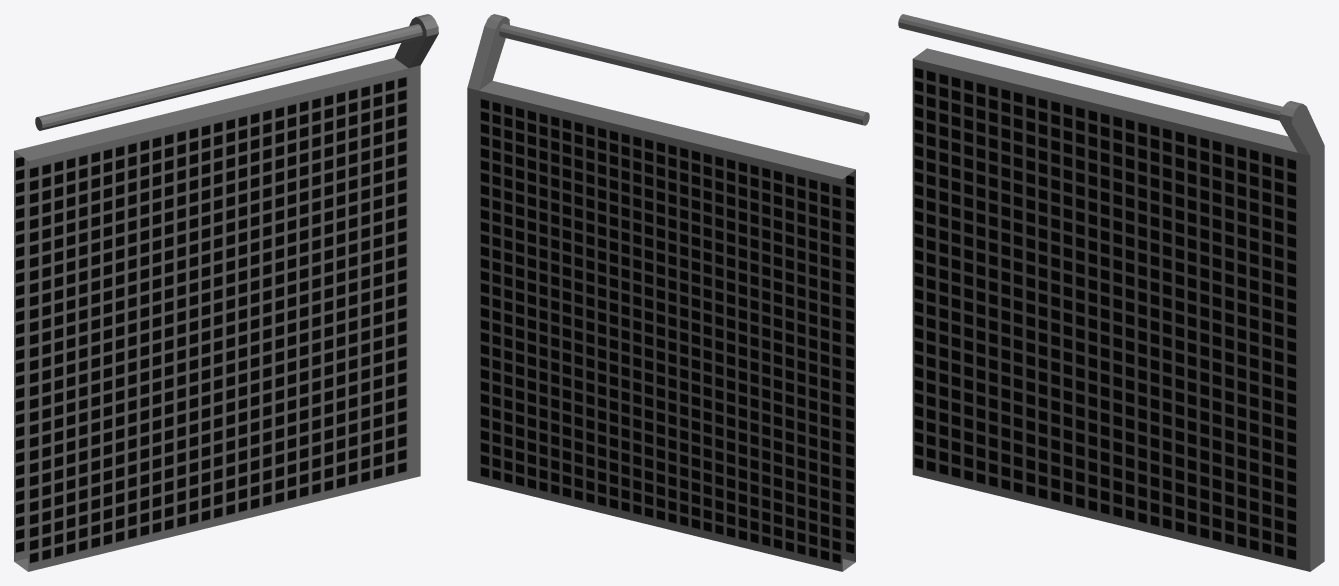
The model's file is nyc_subway_platform_barrier_1c.obj.
The picture shows the model from 3 angles, left to right: view 1: azimuth 30°, elevation 25°; view 2: azimuth 150°, elevation 25°; view 3: azimuth 330°, elevation 25°; orthographic projection. The views are drawn at different scales.
Visible parts, largest first — view 1: cube, cylinder; view 2: cube, cylinder; view 3: cube, cylinder.
Part boxes in pixels (x1=…): cube: x1=14, y1=14, x2=438, y2=571; cylinder: x1=35, y1=24, x2=422, y2=130; cube: x1=467, y1=14, x2=855, y2=571; cylinder: x1=499, y1=23, x2=869, y2=125; cube: x1=912, y1=48, x2=1324, y2=571; cylinder: x1=898, y1=14, x2=1302, y2=125.
Size of the model in its own units: 1 by 1.14 by 0.1425.
Materials: 1 (1 with a texture image).
